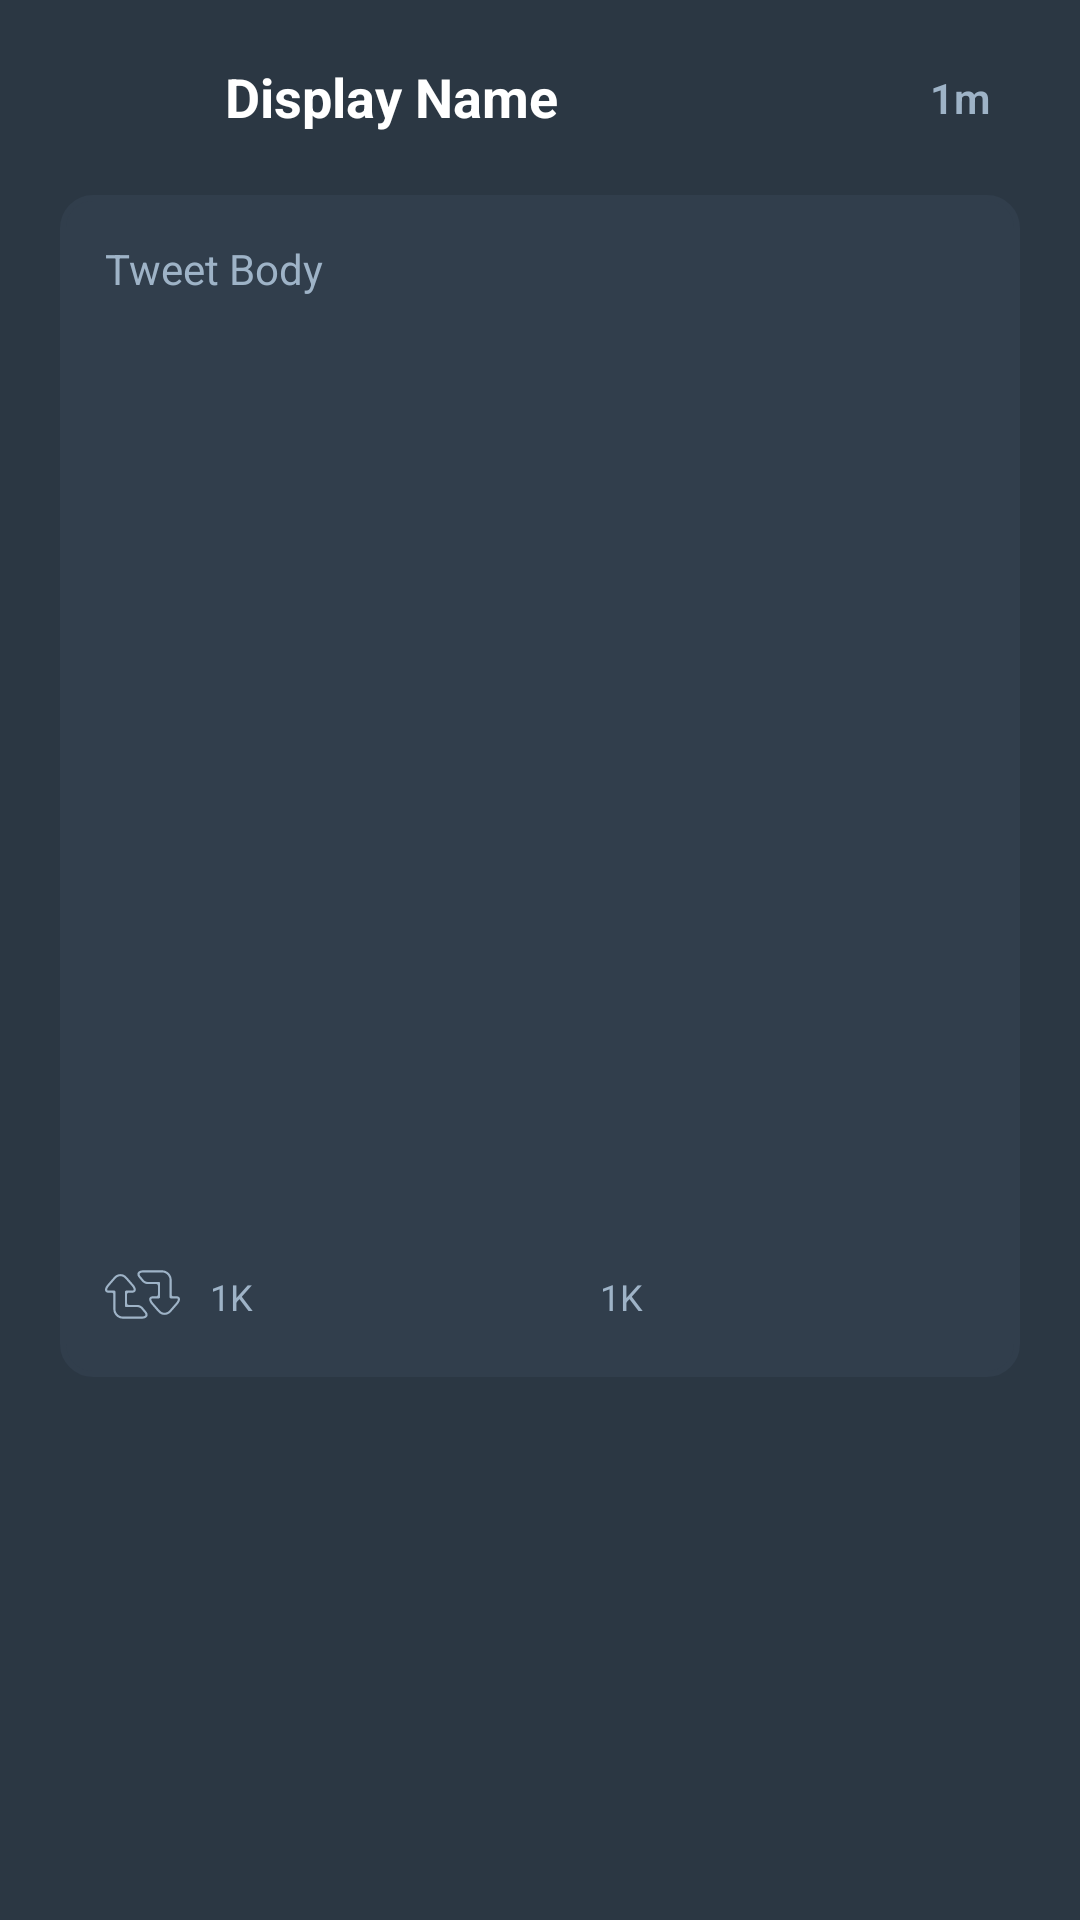

Point at icon controls on the screen. Image size 1080 x 1920, points as [x,y].
retweet: [142,1294]
